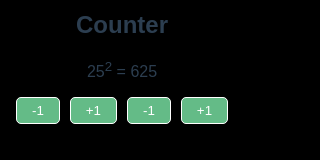
Test: Counter.vue › should decrement power in 1
Click the 2nd button "-1" at [149, 111], box top-left (127, 97), bottom-right (171, 124)
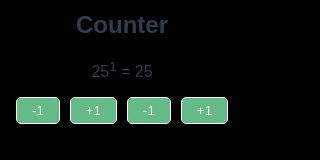
Expected: the text "1" is shown, top-left (109, 59), bottom-right (117, 74)
